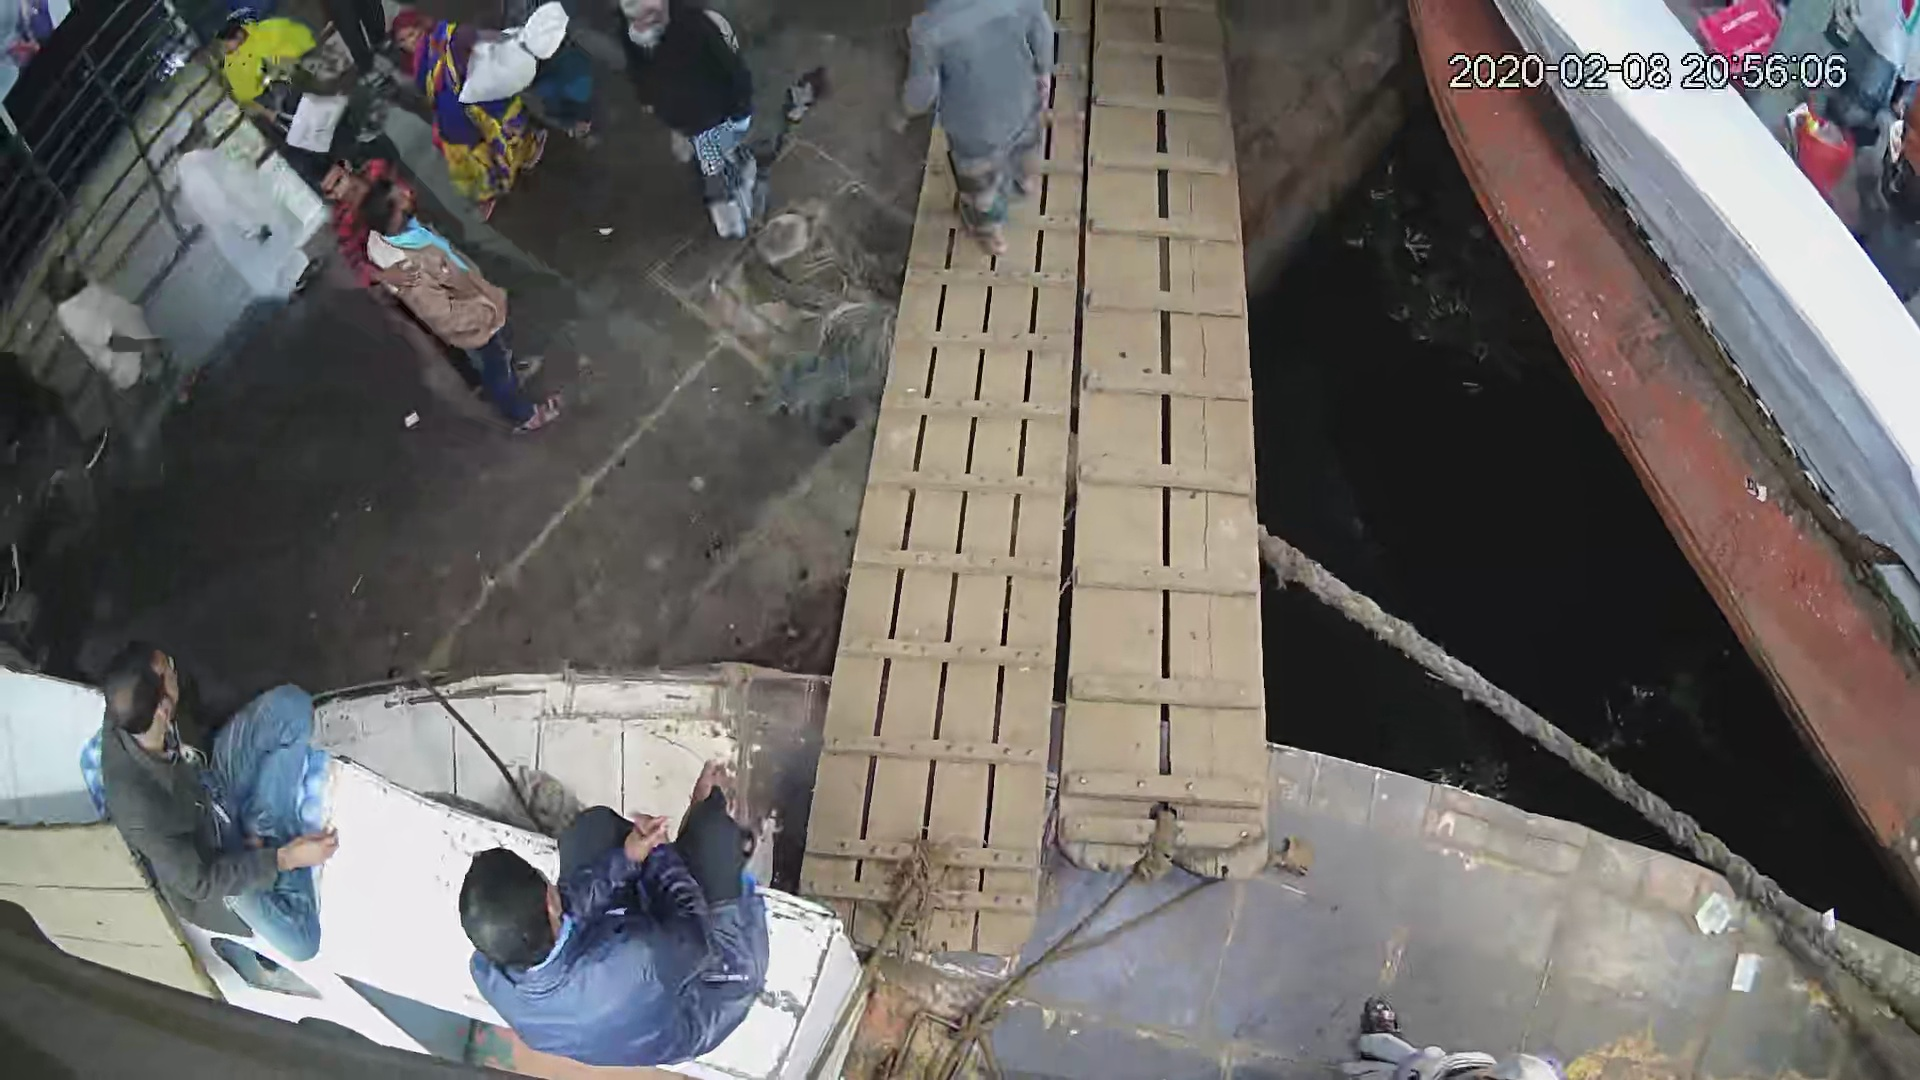person: (454, 758, 775, 1060), (88, 638, 340, 970), (356, 180, 570, 439), (898, 1, 1062, 259), (614, 1, 770, 247), (140, 101, 326, 300), (41, 232, 198, 440), (391, 1, 534, 222)
